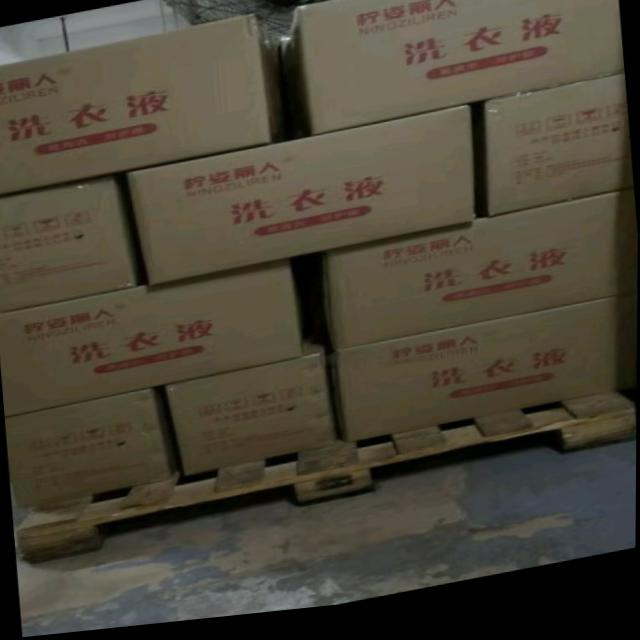box: (120, 114, 475, 290), (0, 20, 288, 197), (325, 201, 638, 358), (285, 0, 624, 141), (1, 265, 301, 417), (333, 306, 638, 452), (167, 346, 339, 482), (479, 86, 632, 228), (7, 392, 173, 513), (0, 178, 140, 312)
